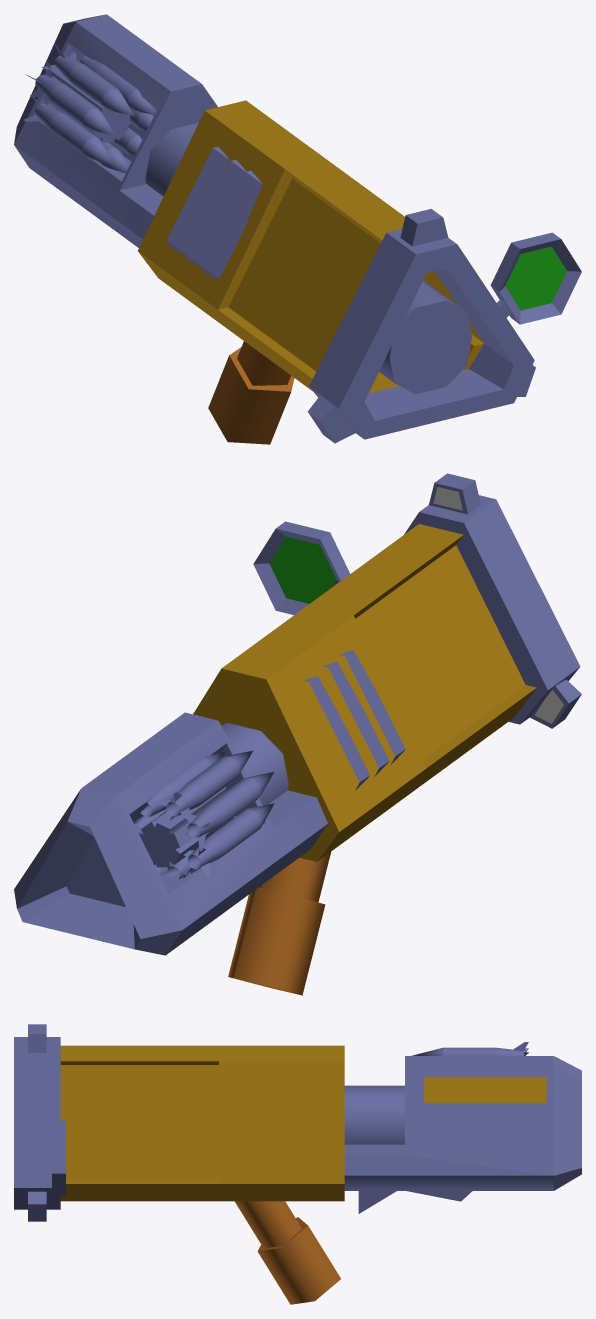
Rendered from Barrage Cannon.obj.
3 views of the same model, one above another, from view 1: azimuth 30°, elevation 25°; view 2: azimuth 150°, elevation 25°; view 3: azimuth 270°, elevation 25° (orthographic). The views are drawn at different scales.
Visible parts, largest first — view 1: BarrageCannon_Mesh_0253.000; view 2: BarrageCannon_Mesh_0253.000; view 3: BarrageCannon_Mesh_0253.000.
Part boxes in pixels (x1=…): BarrageCannon_Mesh_0253.000: x1=14, y1=14, x2=581, y2=444; BarrageCannon_Mesh_0253.000: x1=14, y1=473, x2=581, y2=995; BarrageCannon_Mesh_0253.000: x1=14, y1=1024, x2=581, y2=1304.
Size of the model in its own units: 1.82 by 2.18 by 4.11.
